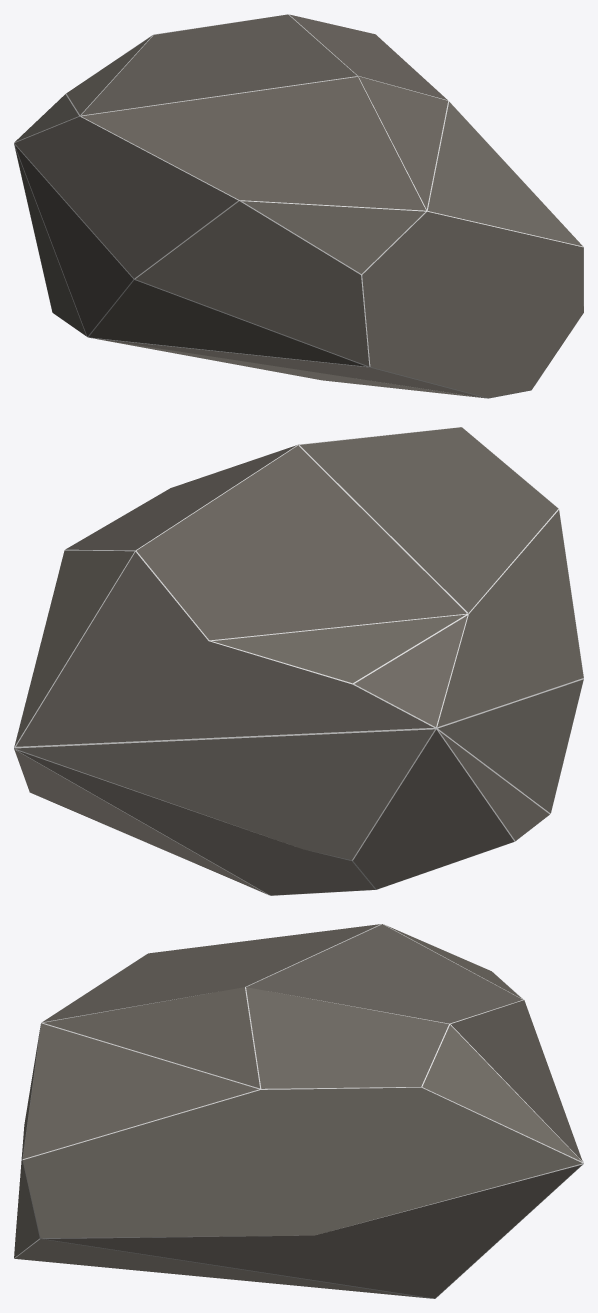
Rendered from rock1.glb.
3 views of the same model, one above another, from view 1: azimuth 30°, elevation 25°; view 2: azimuth 150°, elevation 25°; view 3: azimuth 270°, elevation 25° (orthographic). The views are drawn at different scales.
Parts seen in each view (by area): view 1: Cube; view 2: Cube; view 3: Cube.
Part boxes in pixels (x1,y1,x2,y2): Cube: [14, 14, 583, 398]; Cube: [14, 427, 583, 895]; Cube: [14, 924, 583, 1298].
Bounding box in the file's own units: 1.59 × 1.1 × 1.92.
1 material, 1 textured.
